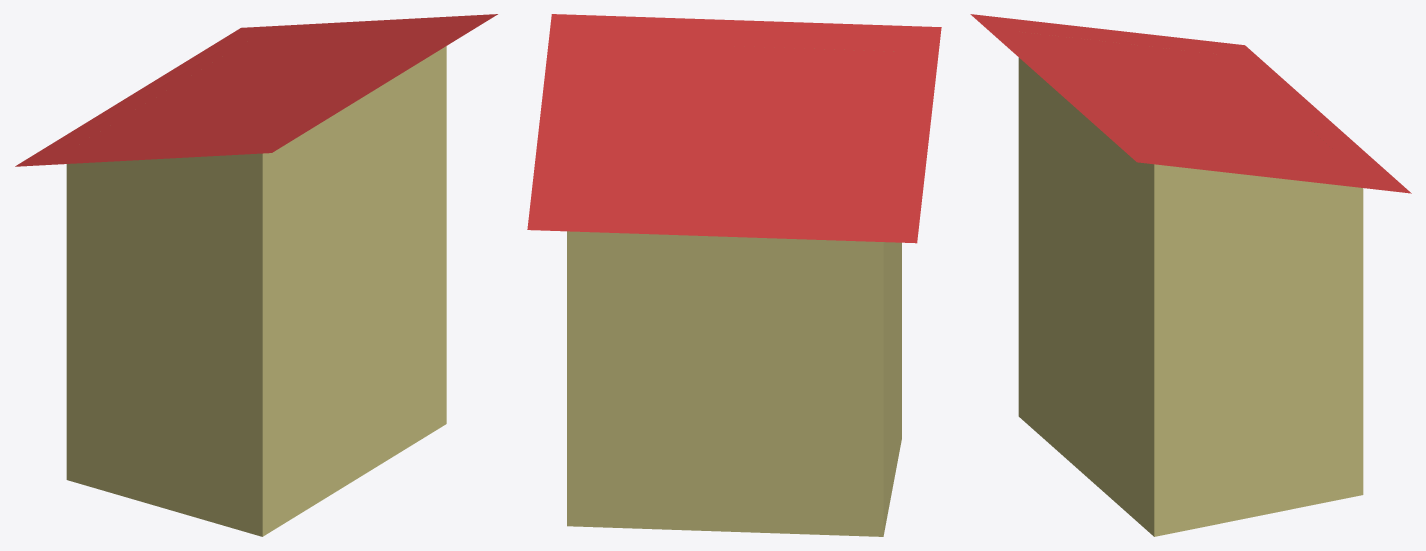
The picture shows the model from 3 angles, left to right: view 1: azimuth 30°, elevation 25°; view 2: azimuth 150°, elevation 25°; view 3: azimuth 270°, elevation 25°; orthographic projection. The views are drawn at different scales.
Bounding box in the file's own units: 6.6 × 6.05 × 5.97.
